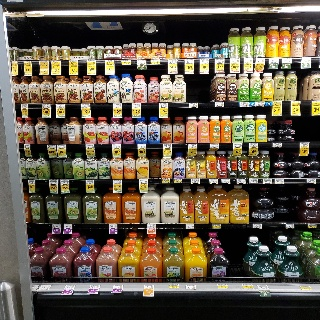All PRICE TAGS: (241, 101, 253, 106), (300, 286, 312, 291), (168, 283, 180, 288), (257, 285, 269, 290), (64, 284, 75, 289), (89, 284, 100, 289), (144, 284, 155, 289), (185, 284, 196, 289), (217, 284, 228, 289), (105, 60, 114, 66), (131, 103, 141, 108), (112, 103, 122, 108), (81, 103, 91, 108), (56, 103, 66, 108), (41, 103, 51, 108), (301, 57, 311, 62), (282, 58, 292, 63), (269, 58, 279, 63), (214, 58, 224, 63), (150, 59, 160, 64), (137, 59, 147, 64), (121, 59, 131, 64), (39, 60, 49, 65), (113, 284, 123, 289), (242, 283, 252, 288), (113, 179, 122, 184), (300, 142, 309, 147), (48, 144, 57, 149), (256, 58, 265, 63), (200, 58, 209, 63), (291, 101, 301, 105), (273, 101, 281, 106), (255, 101, 265, 105), (243, 58, 253, 62), (230, 58, 240, 62), (184, 59, 194, 63), (186, 224, 194, 229), (285, 224, 295, 228), (139, 179, 148, 183), (85, 180, 94, 184), (27, 180, 36, 184), (273, 142, 282, 146), (249, 143, 258, 147), (210, 143, 219, 147), (112, 144, 121, 148), (215, 102, 224, 106), (189, 103, 198, 107), (159, 103, 168, 107), (168, 59, 177, 63), (87, 60, 96, 64), (69, 60, 78, 64), (52, 60, 61, 64), (23, 61, 32, 65), (161, 179, 170, 183), (191, 179, 200, 183), (275, 179, 284, 183), (307, 179, 316, 183), (109, 224, 118, 228), (147, 224, 156, 228), (253, 224, 262, 228), (308, 224, 317, 228), (40, 285, 49, 289), (61, 180, 69, 184), (50, 180, 58, 184), (234, 143, 242, 147), (189, 144, 197, 148), (163, 144, 171, 148), (138, 144, 146, 148), (86, 144, 94, 148), (58, 144, 66, 148), (23, 144, 31, 148), (174, 179, 182, 183), (210, 179, 218, 183), (222, 179, 230, 183), (237, 179, 245, 183), (250, 179, 258, 183), (263, 179, 271, 183), (64, 224, 72, 228), (213, 224, 221, 228), (312, 101, 319, 105), (21, 104, 28, 108), (53, 224, 60, 228), (12, 62, 17, 65)
